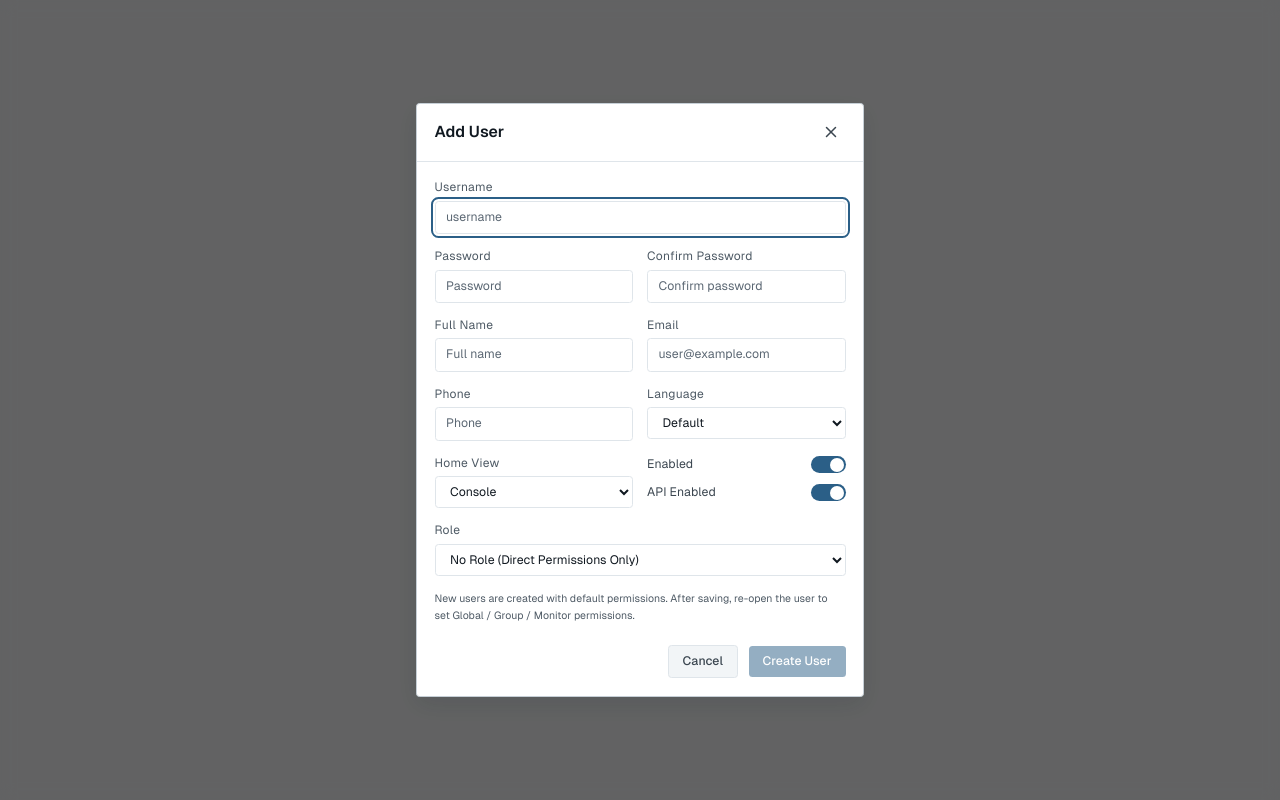
Test: UserEditor — create › blocks the create when the two passwords differ
Type "newop" into the field with placeholder "Username".
click(640, 217); type("newop")  # box 434,201 -> 846,234
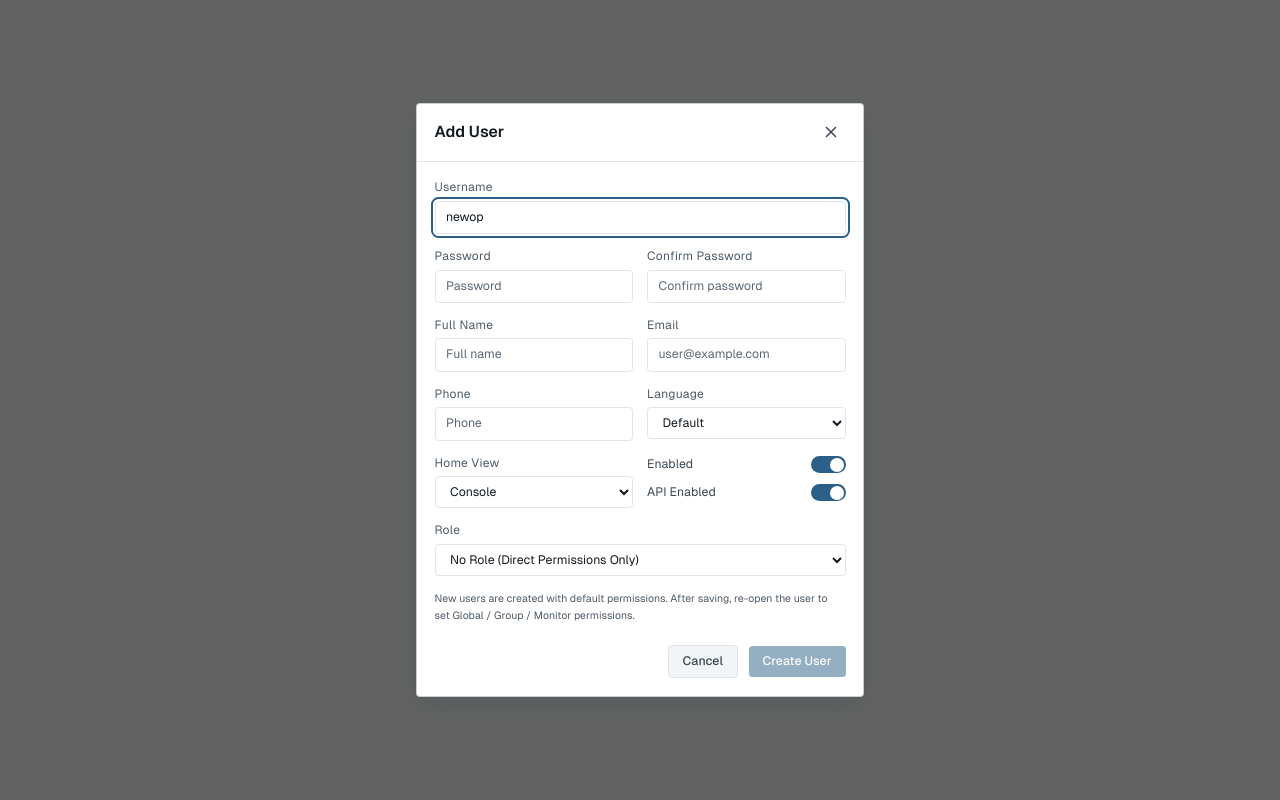
Type "secret" into the password field with placeholder "Password".
click(534, 286); type("secret")  # box 434,270 -> 633,303
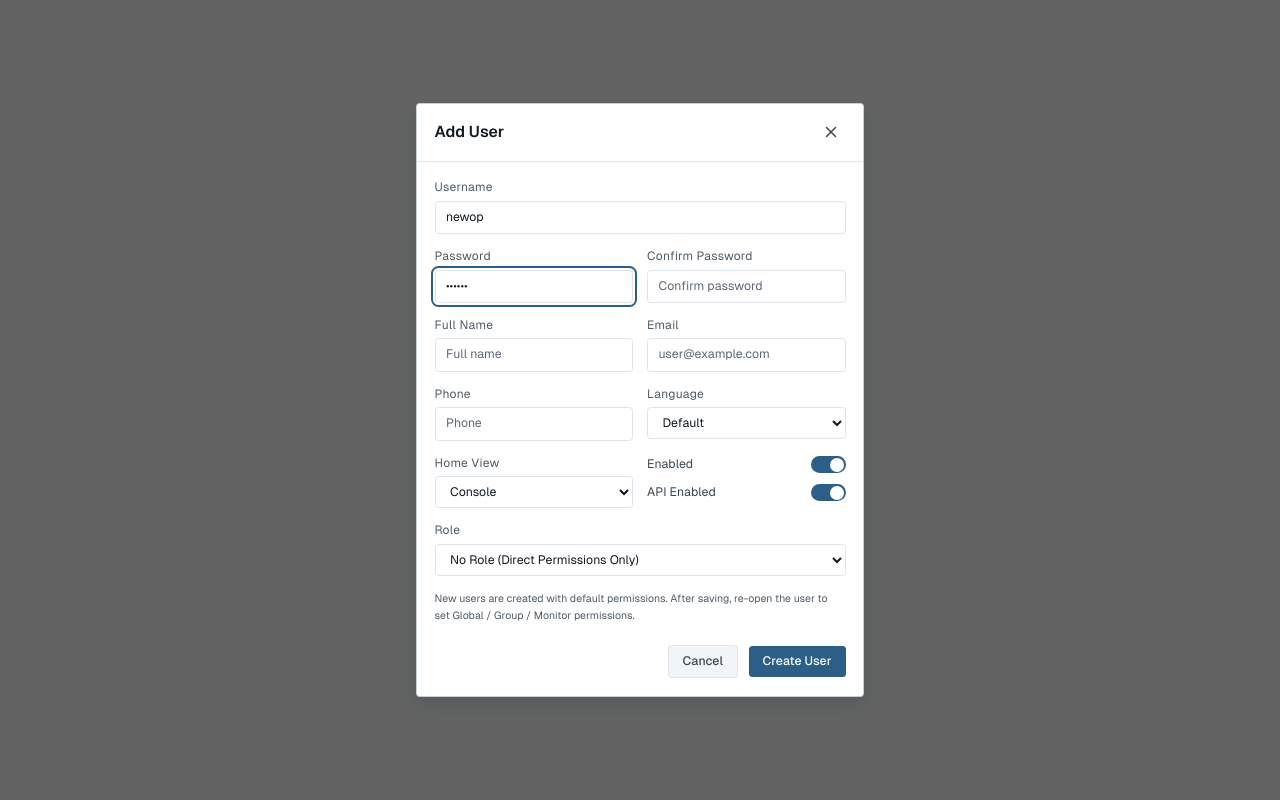
Type "different" into the password field with placeholder "Confirm Password".
click(746, 286); type("different")  # box 647,270 -> 846,303
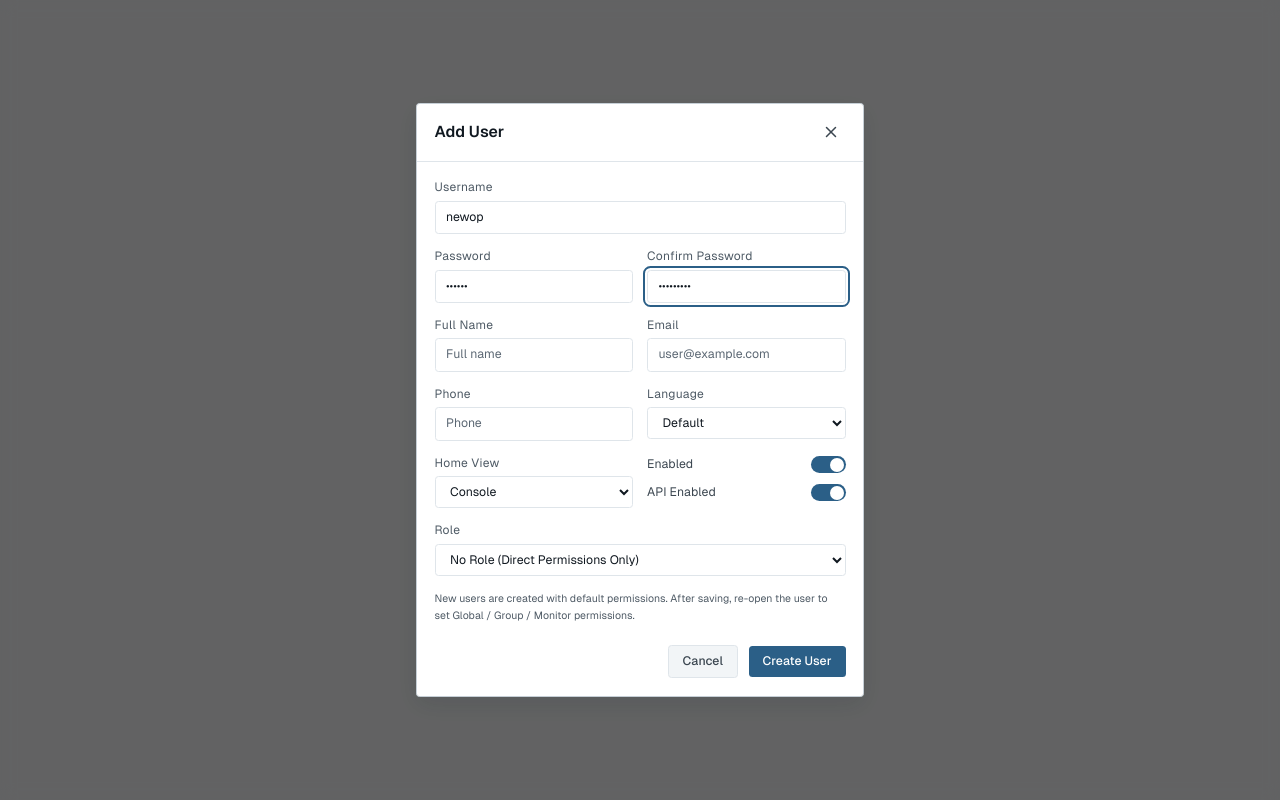
Click the button "Create User".
click(797, 662)  # box 749,646 -> 846,677
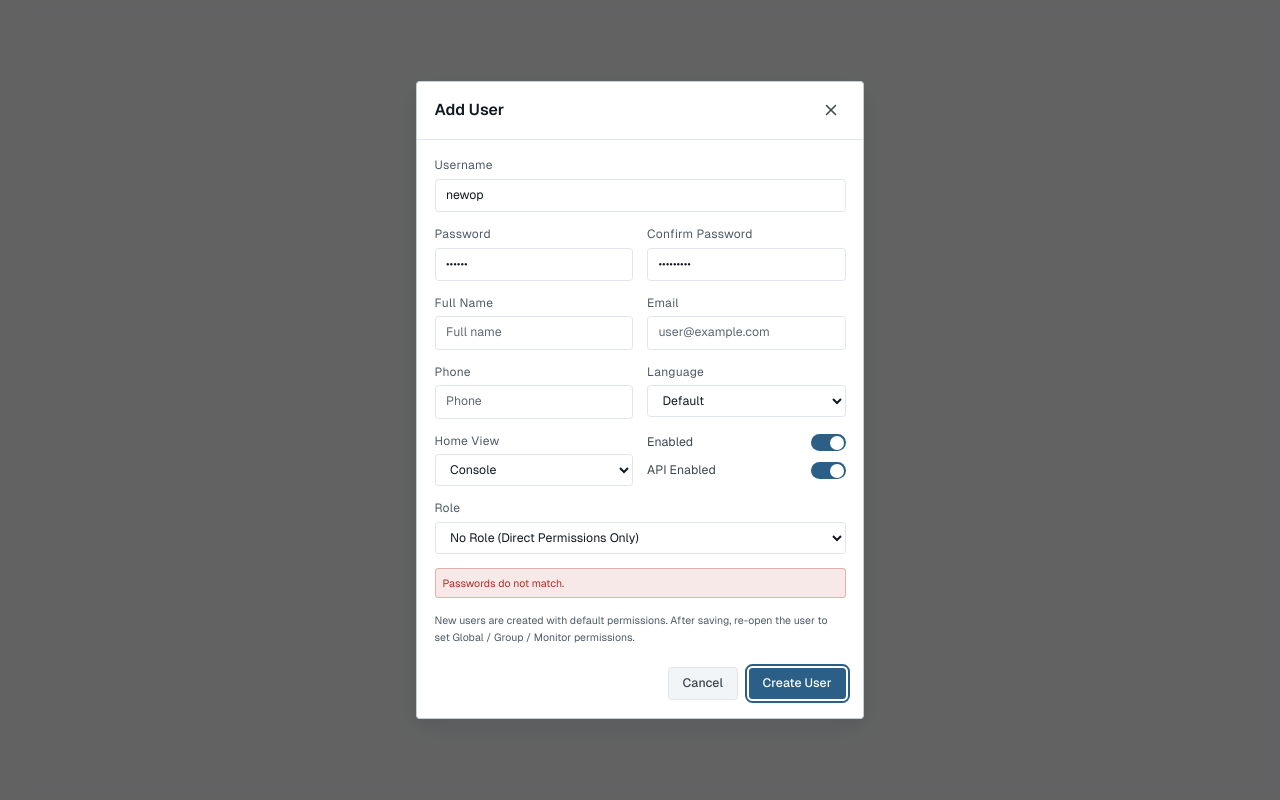
Expected: the text "Passwords do not match." is shown, 434,568 -> 846,598
